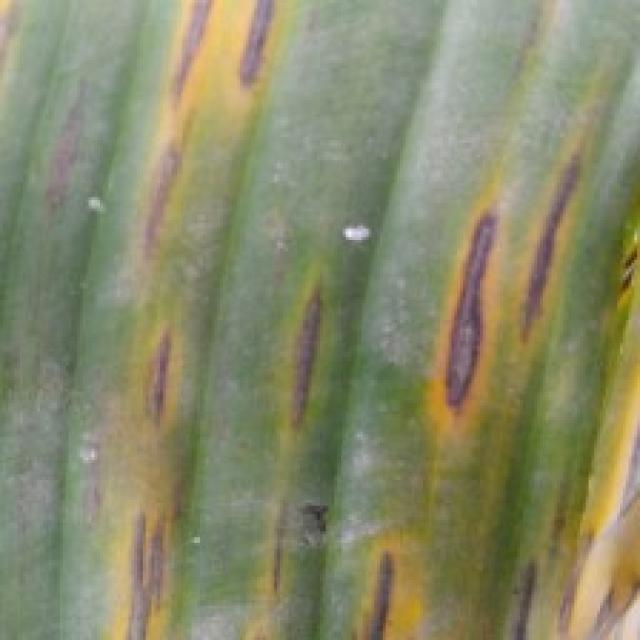Early_leaf_spot: (315, 114, 640, 638), (101, 0, 344, 640), (0, 0, 57, 97)
